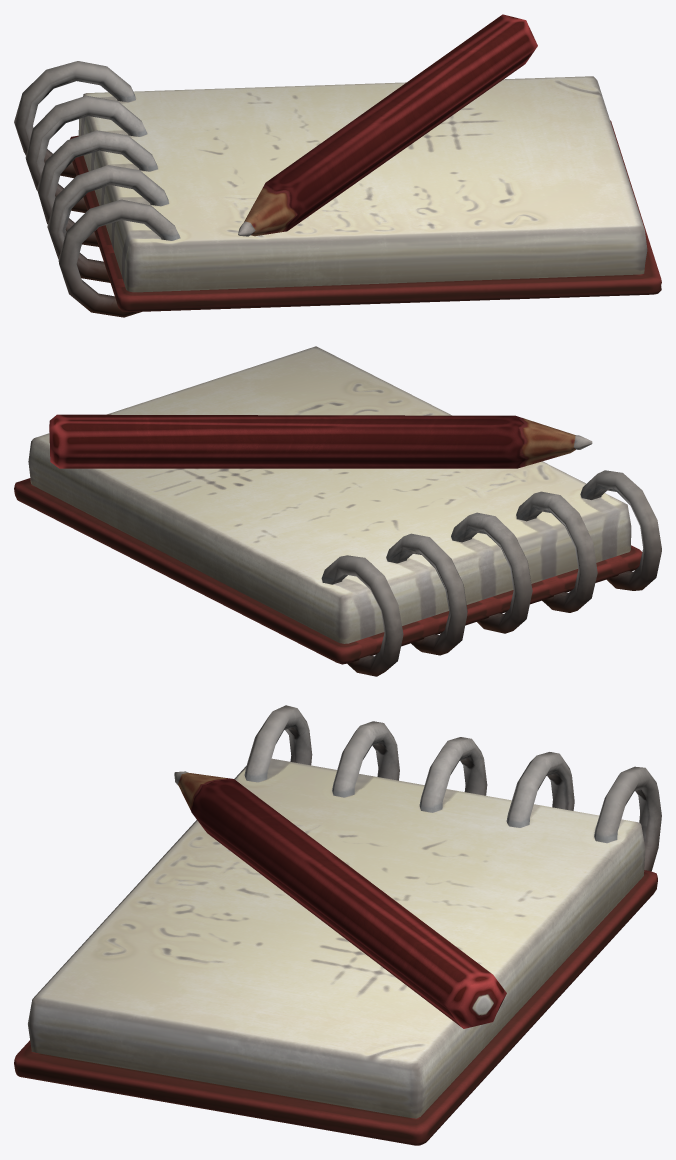
The model's file is SM_Pen+Notebook.fbx.
3 renders of one model, top to bottom at view 1: azimuth 30°, elevation 25°; view 2: azimuth 150°, elevation 25°; view 3: azimuth 270°, elevation 25°, orthographic. The views are drawn at different scales.
Visible parts, largest first — view 1: SM_Notebook, SM_Pen; view 2: SM_Notebook, SM_Pen; view 3: SM_Notebook, SM_Pen.
Boxes of the visible parts, left/top/right/bottom form: SM_Notebook: left=14, top=61, right=661, bottom=317; SM_Pen: left=238, top=14, right=537, bottom=236; SM_Notebook: left=14, top=346, right=661, bottom=676; SM_Pen: left=49, top=414, right=592, bottom=468; SM_Notebook: left=14, top=705, right=661, bottom=1145; SM_Pen: left=174, top=771, right=506, bottom=1028.
Bounding box in the file's own units: 25.93 × 4.8 × 21.1.
